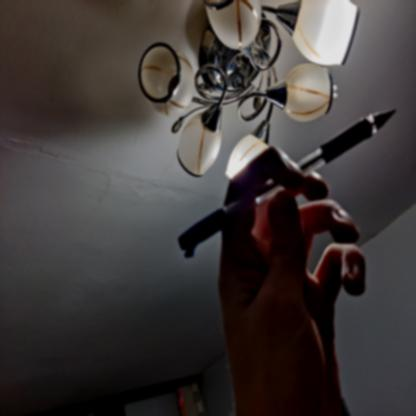pen: (164, 98, 395, 266)
